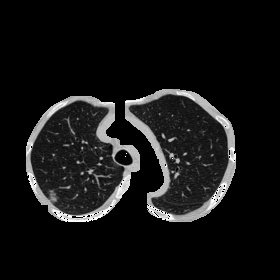PN: (46, 190, 58, 202)
